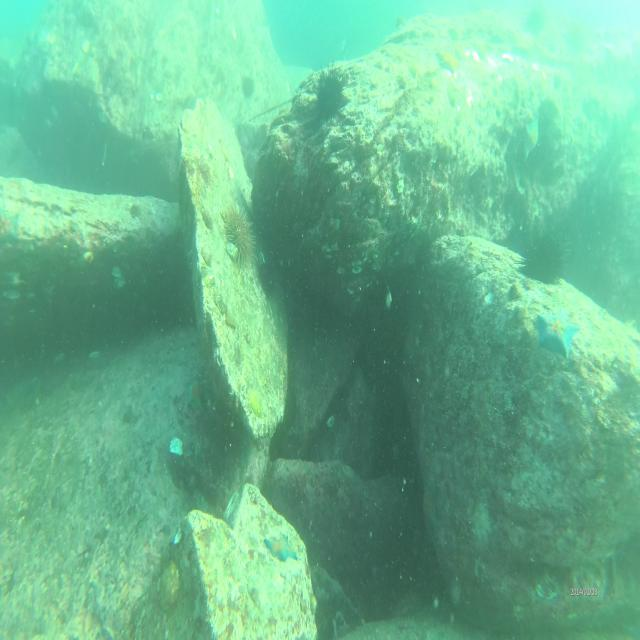echinus: (522, 231, 564, 284), (222, 208, 254, 269), (315, 67, 346, 117), (241, 73, 256, 101)
starfish: (536, 310, 578, 359), (264, 530, 298, 565)
